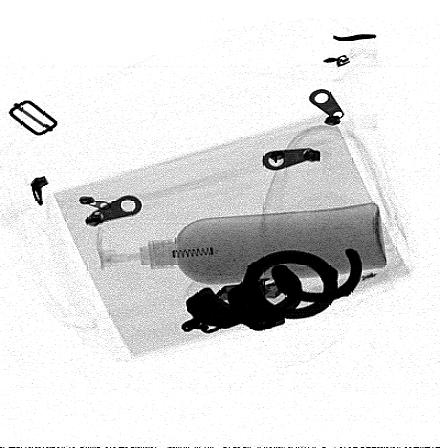HandCuffs: (181, 248, 362, 334)
